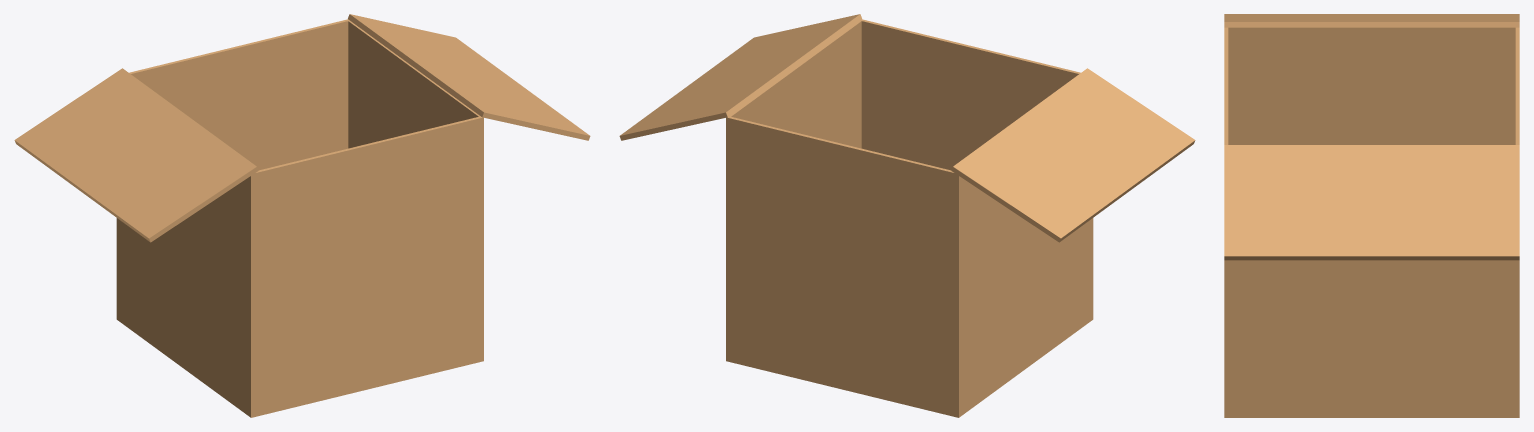
The model's file is CupBox.fbx.
3 views of the same model, side by side, from view 1: azimuth 30°, elevation 25°; view 2: azimuth 150°, elevation 25°; view 3: azimuth 270°, elevation 25° (orthographic). The views are drawn at different scales.
Parts seen in each view (by area): view 1: Cube.015, Cube.016, Cube.017; view 2: Cube.015, Cube.016, Cube.017; view 3: Cube.015, Cube.017, Cube.016.
Boxes of the visible parts, box(x1,y1,x2,y2) form: Cube.015: box(116, 19, 483, 417); Cube.016: box(14, 68, 258, 242); Cube.017: box(348, 14, 590, 140); Cube.015: box(726, 19, 1093, 417); Cube.016: box(951, 68, 1195, 242); Cube.017: box(619, 14, 861, 140); Cube.015: box(1224, 27, 1519, 417); Cube.017: box(1224, 145, 1519, 260); Cube.016: box(1224, 14, 1519, 27).
Bounding box in the file's own units: 0.5697 × 0.3121 × 0.3006.
